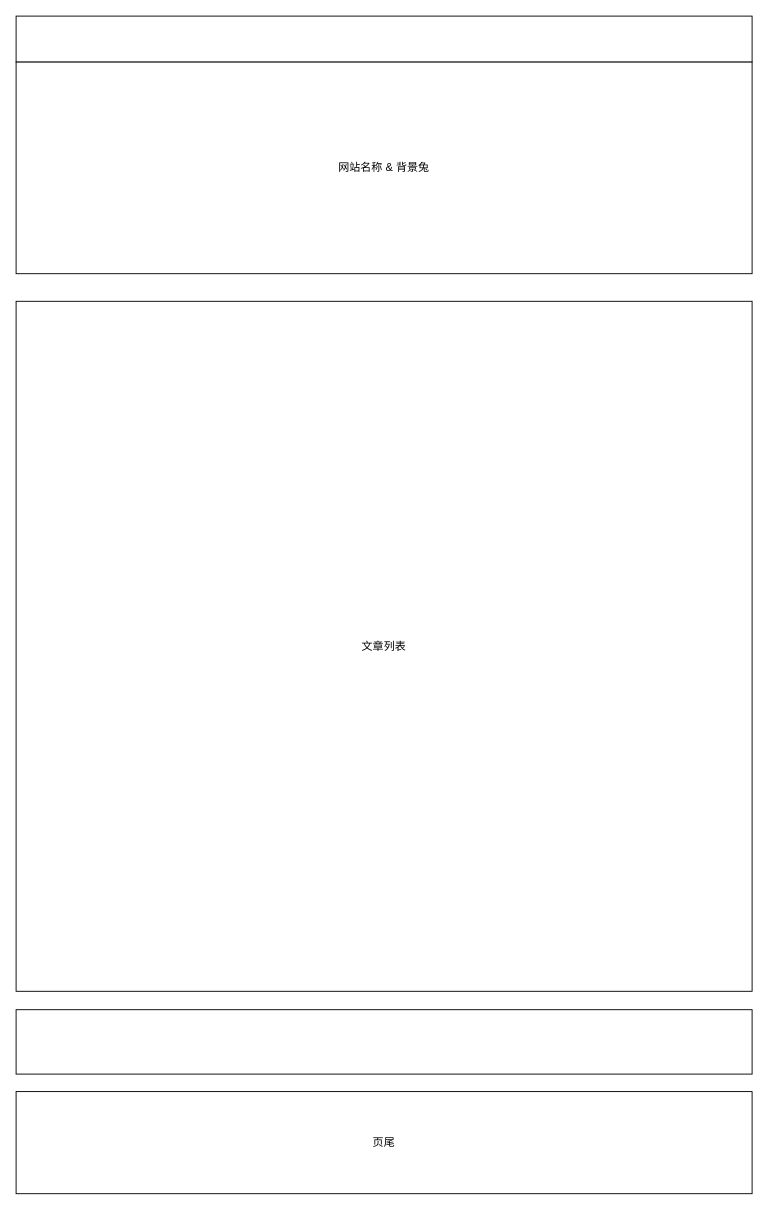
Image size: 768x1210. Some labels were removed from this diagram. Each missing label, with the box of its shape:
分页: (15, 1009, 752, 1074)
导航栏: (15, 15, 752, 62)
